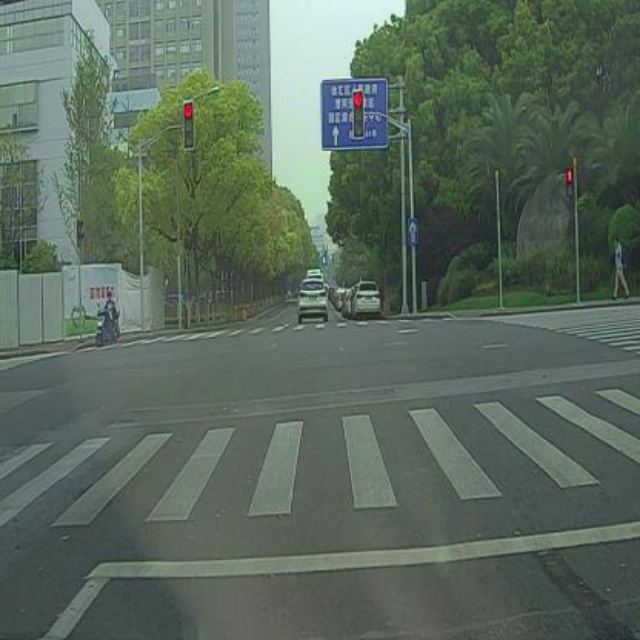Đèn đỏ: (182, 100, 195, 151), (354, 90, 364, 139)
